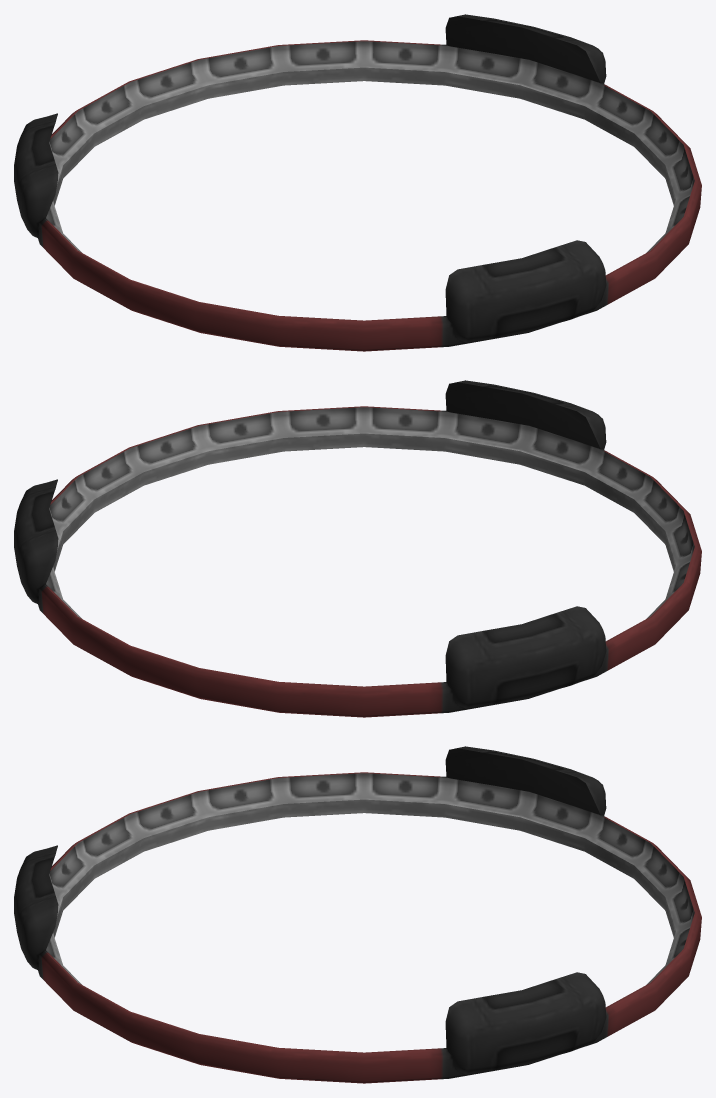
File: Decoupler.fbx
The picture shows the model from 3 angles, top to bottom: view 1: azimuth 30°, elevation 25°; view 2: azimuth 150°, elevation 25°; view 3: azimuth 270°, elevation 25°; orthographic projection.
Parts seen in each view (by area): view 1: Mercury_Decoupler_Merged_group142; view 2: Mercury_Decoupler_Merged_group142; view 3: Mercury_Decoupler_Merged_group142.
Boxes of the visible parts, <box> form: Mercury_Decoupler_Merged_group142: <box>14,14,701,351</box>; Mercury_Decoupler_Merged_group142: <box>14,380,701,717</box>; Mercury_Decoupler_Merged_group142: <box>14,746,701,1083</box>.
Size of what is drawn, in the model's own units: 1.28 by 0.1469 by 1.31.
